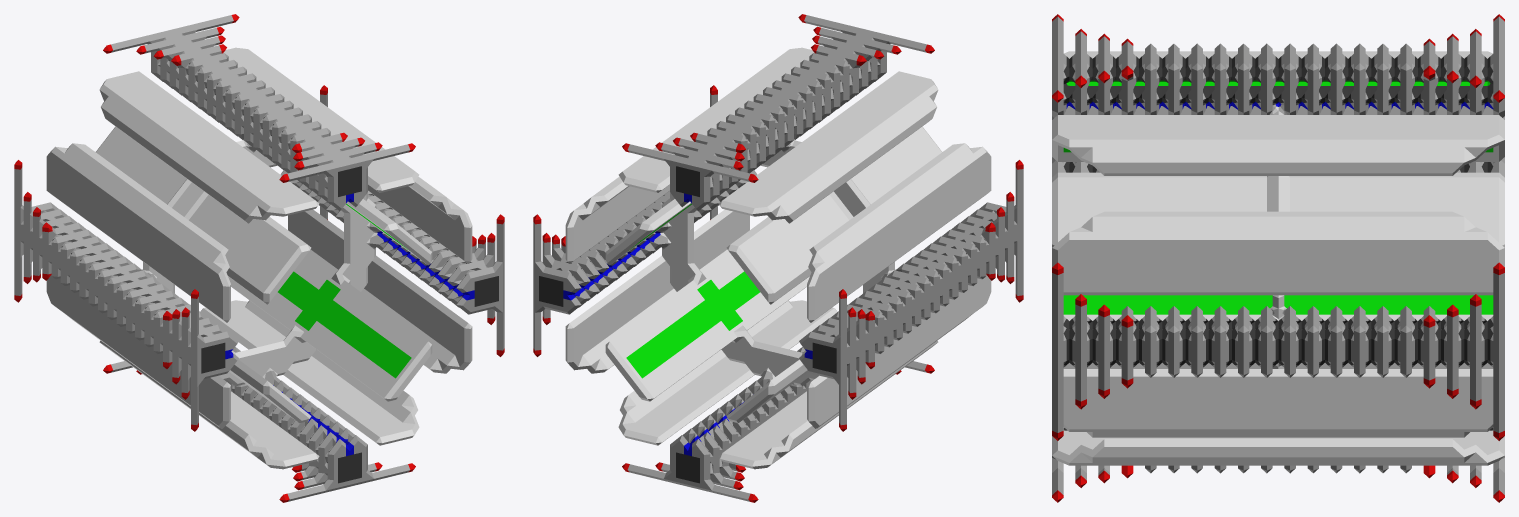
The model's file is obj_auron_bophose_monolith.fbx.
The picture shows the model from 3 angles, left to right: view 1: azimuth 30°, elevation 25°; view 2: azimuth 150°, elevation 25°; view 3: azimuth 270°, elevation 25°; orthographic projection. The views are drawn at different scales.
Visible parts, largest first — view 1: obj_auron_bophose_monolith; view 2: obj_auron_bophose_monolith; view 3: obj_auron_bophose_monolith.
Part boxes in pixels (x1,y1,x2,y2): obj_auron_bophose_monolith: [14, 14, 504, 502]; obj_auron_bophose_monolith: [533, 14, 1023, 502]; obj_auron_bophose_monolith: [1052, 14, 1504, 502].
Size of the model in its own units: 3900 by 3900 by 3900.
